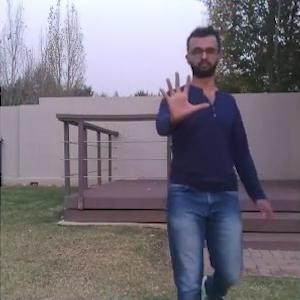follow_hand: (156, 67, 211, 122)
